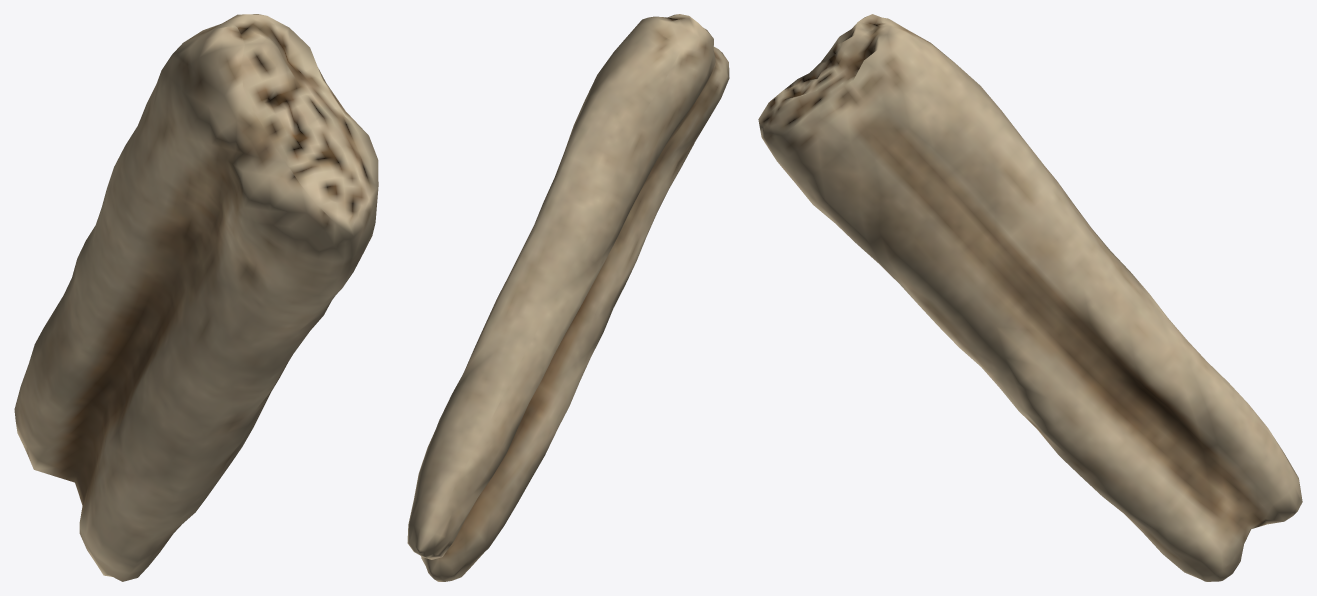
Rendered from Mandibular_Molar3.glb.
3 views of the same model, side by side, from view 1: azimuth 30°, elevation 25°; view 2: azimuth 150°, elevation 25°; view 3: azimuth 270°, elevation 25° (orthographic). The views are drawn at different scales.
Parts seen in each view (by area): view 1: Mandibular_Molar3.glb; view 2: Mandibular_Molar3.glb; view 3: Mandibular_Molar3.glb.
Part boxes in pixels (<box>): Mandibular_Molar3.glb: <box>14,14,378,581</box>; Mandibular_Molar3.glb: <box>407,14,729,581</box>; Mandibular_Molar3.glb: <box>758,14,1302,581</box>.
Size of the model in its own units: 0.0233 by 0.0779 by 0.074.
Materials: 1 (1 with a texture image).
